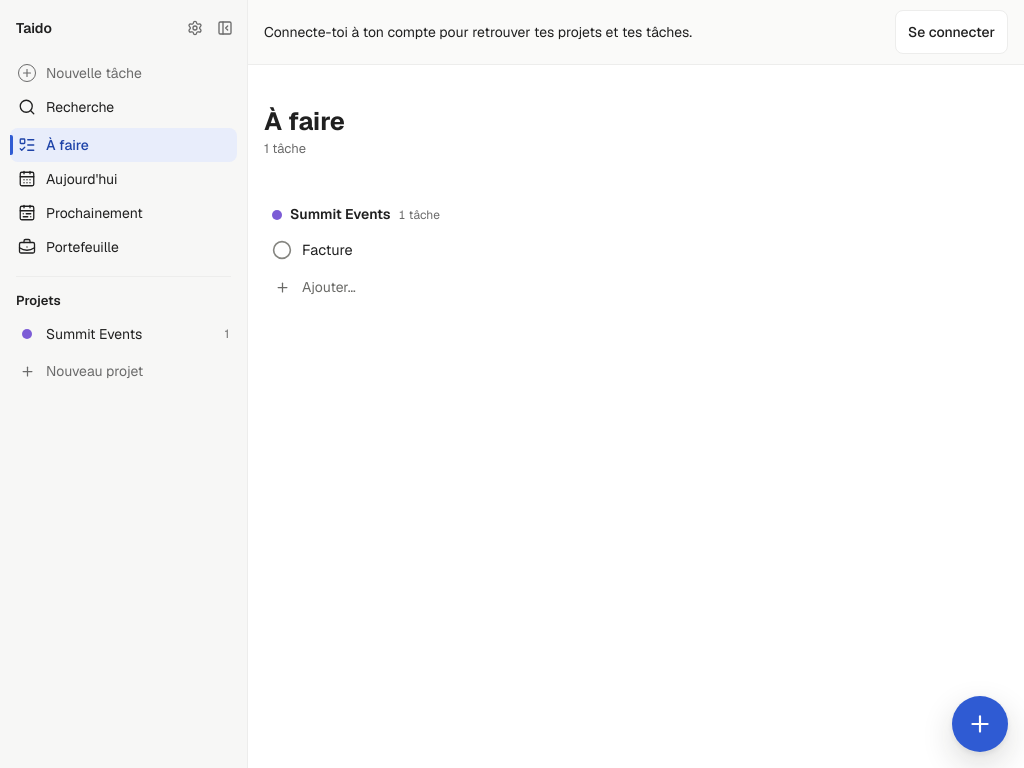
Kanban, Dashboard and Portfolio on the web › portfolio: from 1024 px only, re-evaluated on resize
Click the button "Portefeuille": (124, 247) [10,230,237,264]
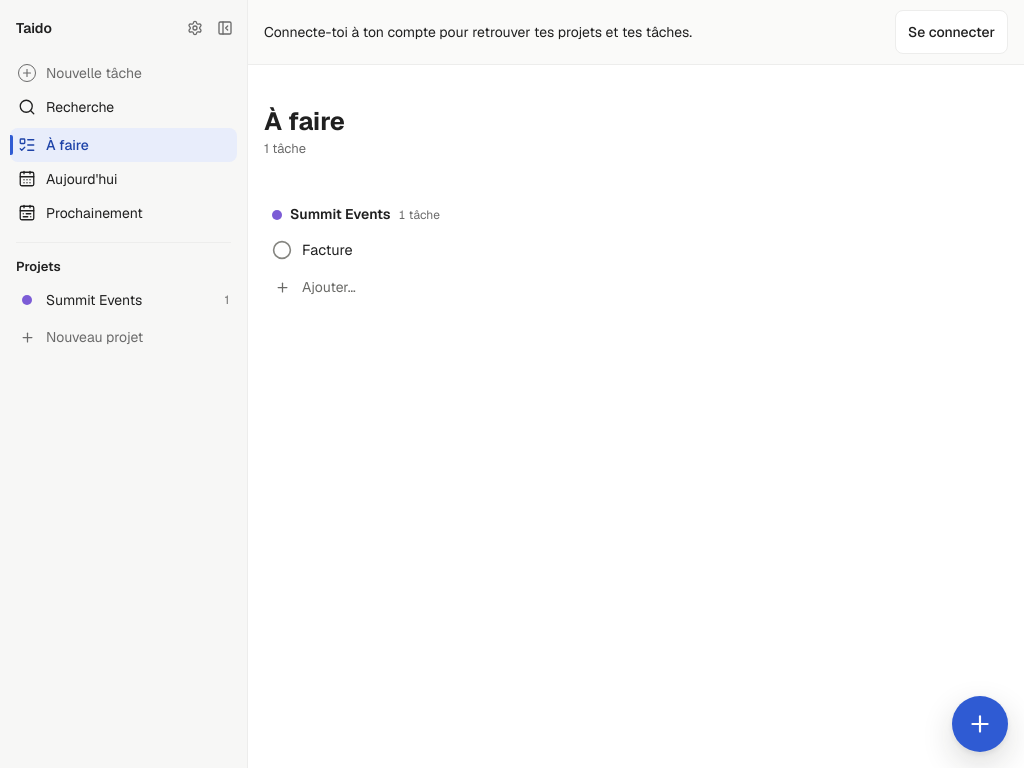
Expected: the button "Portefeuille" is gone
